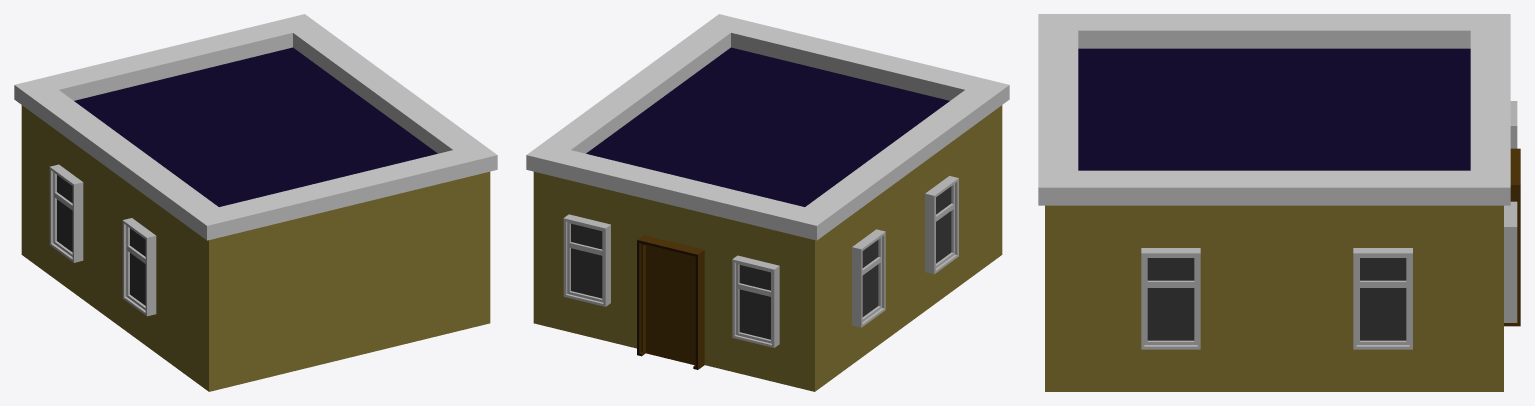
File: Building_5 (1).fbx
The picture shows the model from 3 angles, left to right: view 1: azimuth 30°, elevation 25°; view 2: azimuth 150°, elevation 25°; view 3: azimuth 270°, elevation 25°; orthographic projection. The views are drawn at different scales.
Parts seen in each view (by area): view 1: Building_5; view 2: Building_5; view 3: Building_5.
Part boxes in pixels (x1,y1,x2,y2): Building_5: (14, 14, 497, 391); Building_5: (526, 14, 1009, 391); Building_5: (1038, 14, 1520, 391).
Size of the model in its own units: 640 by 345 by 728.
